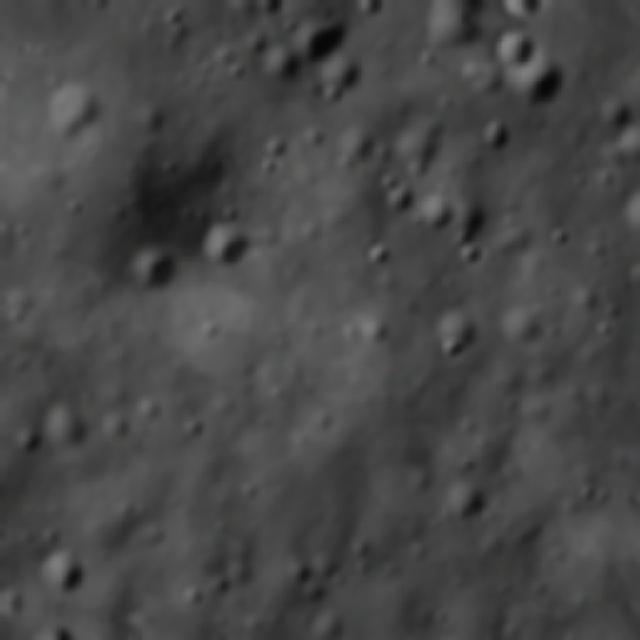crater: (289, 5, 357, 77), (421, 296, 482, 372), (504, 54, 568, 114), (198, 219, 260, 279), (434, 474, 491, 532), (124, 247, 185, 296), (28, 549, 86, 596), (416, 192, 462, 239), (470, 116, 515, 162), (596, 92, 635, 137), (377, 180, 418, 218), (357, 234, 395, 275), (2, 428, 38, 460), (615, 123, 640, 169), (217, 201, 246, 227)
